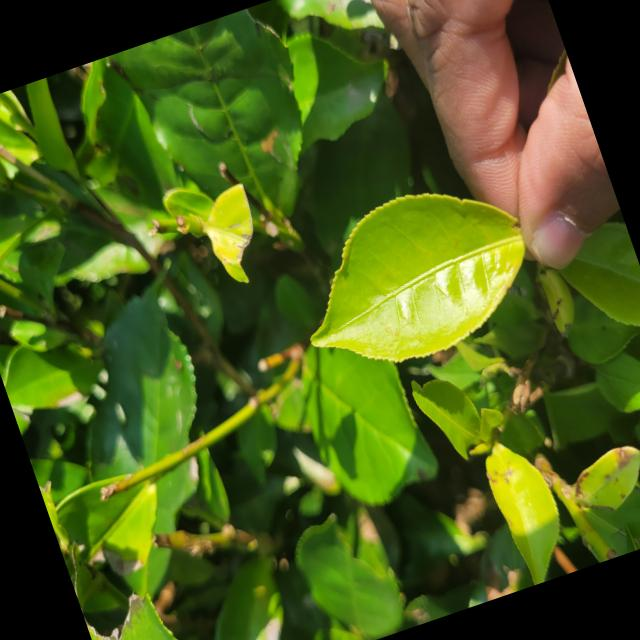Catagory A(1-2 days): (262, 144, 568, 420)
